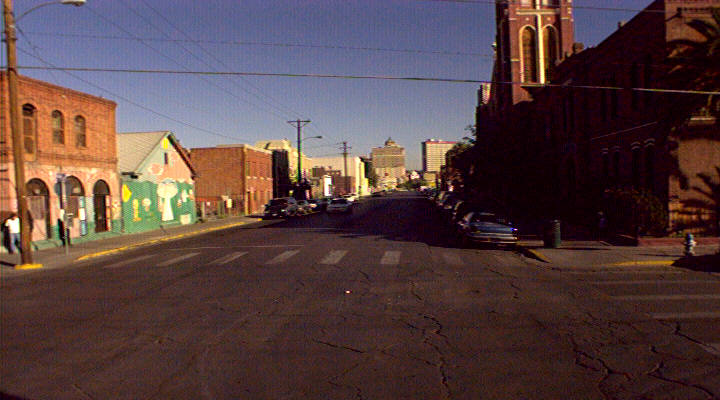Ramp: (535, 243, 625, 273), (31, 243, 87, 273)
